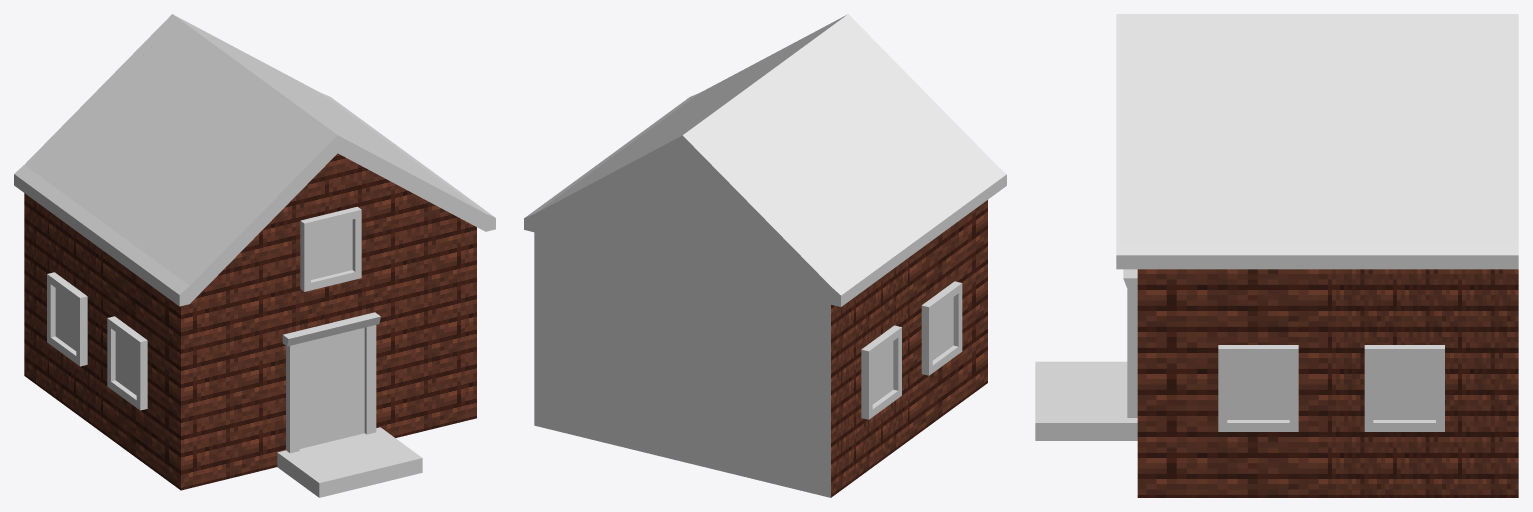
File: house1_2.fbx
3 views of the same model, side by side, from view 1: azimuth 30°, elevation 25°; view 2: azimuth 150°, elevation 25°; view 3: azimuth 270°, elevation 25° (orthographic). The views are drawn at different scales.
Visible parts, largest first — view 1: House, Door, Ground, Window, DoorFrame, Window.003, Window.002; view 2: House, Window.002, Window.003; view 3: House, Ground, Window.001, Window.004, DoorFrame.
Part boxes in pixels (bbox=[...]): House: bbox=[14, 14, 495, 490]; Door: bbox=[299, 327, 364, 448]; Ground: bbox=[277, 427, 422, 497]; Window: bbox=[300, 206, 361, 291]; DoorFrame: bbox=[282, 312, 380, 453]; Window.003: bbox=[47, 272, 87, 366]; Window.002: bbox=[107, 316, 147, 410]; House: bbox=[524, 14, 1006, 497]; Window.002: bbox=[921, 281, 962, 375]; Window.003: bbox=[861, 325, 901, 419]; House: bbox=[1116, 14, 1518, 497]; Ground: bbox=[1035, 361, 1137, 440]; Window.001: bbox=[1218, 345, 1298, 431]; Window.004: bbox=[1364, 345, 1444, 431]; DoorFrame: bbox=[1123, 269, 1137, 417].
Size of the model in its own units: 613 by 604 by 667.
